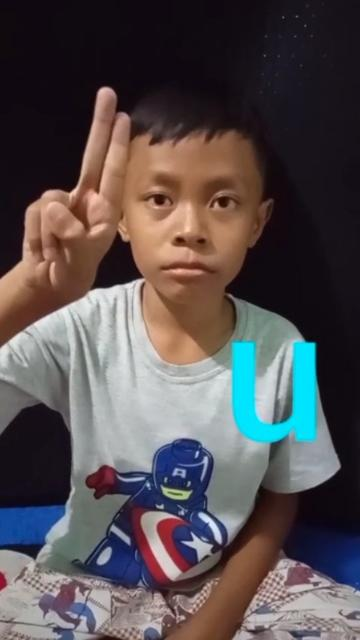U: (19, 78, 132, 308)
